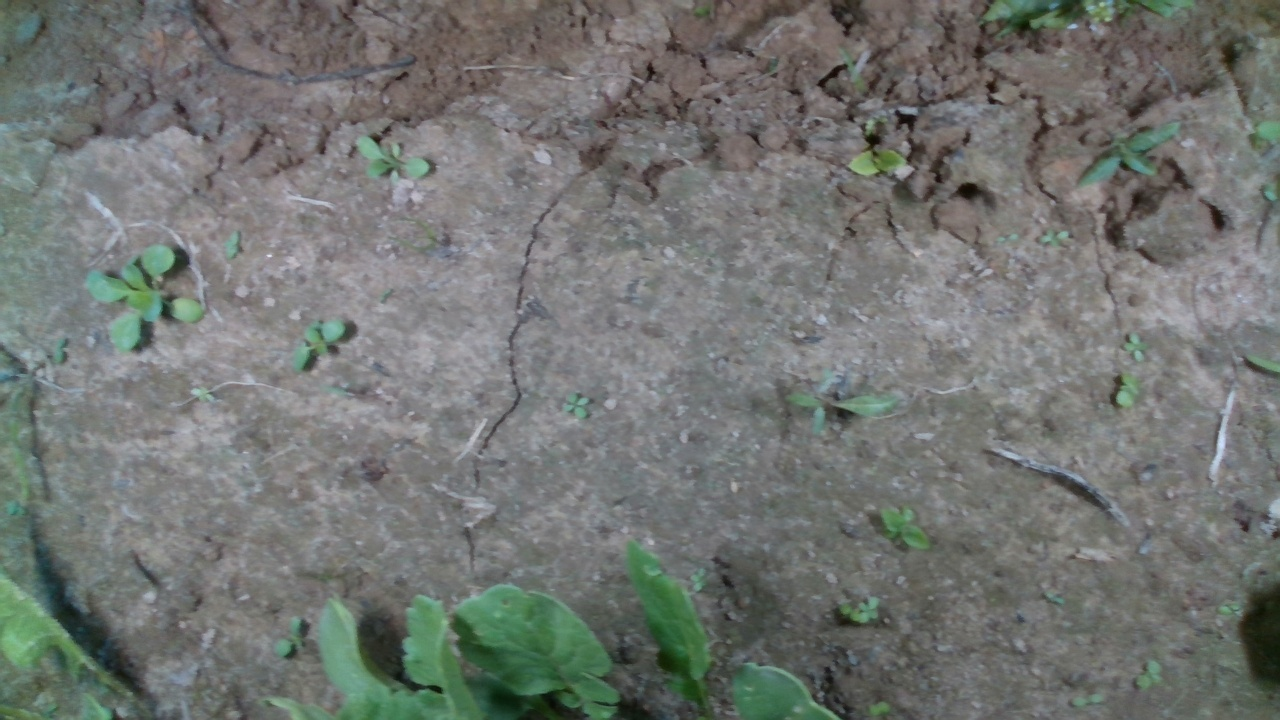weed: (1070, 116, 1185, 190), (352, 133, 432, 185), (290, 318, 346, 372), (877, 505, 932, 550), (844, 147, 912, 180), (272, 612, 301, 660), (1114, 372, 1140, 411), (560, 390, 590, 419), (1121, 331, 1148, 362), (1135, 659, 1162, 688), (1035, 227, 1068, 249), (48, 333, 68, 365), (1070, 690, 1103, 707), (689, 567, 709, 593), (867, 700, 891, 717), (992, 231, 1019, 244)
